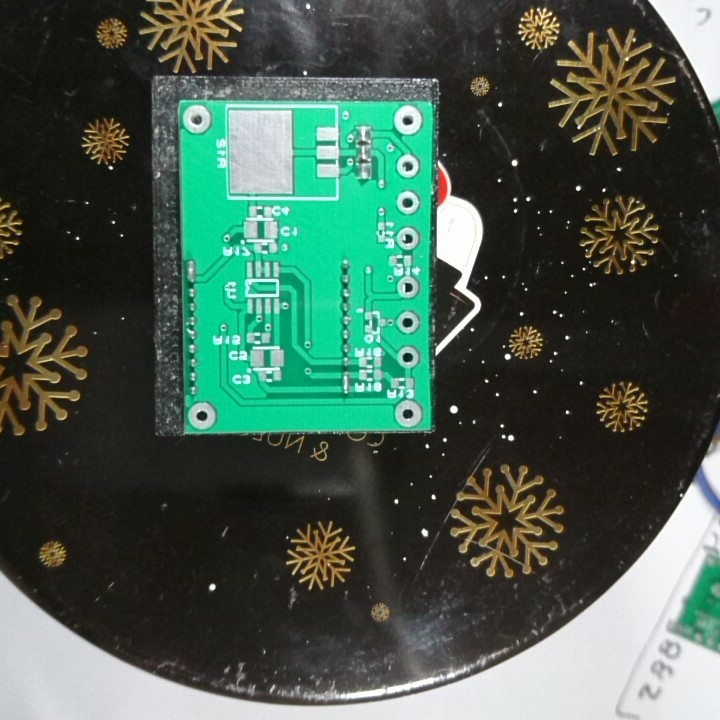F: (391, 102, 425, 138), (180, 103, 214, 134), (186, 399, 220, 429), (393, 396, 424, 427), (393, 188, 422, 217), (394, 273, 421, 302), (394, 153, 422, 180), (394, 226, 422, 252), (397, 344, 422, 372), (395, 309, 420, 335)
P: (183, 258, 201, 286), (339, 371, 352, 398)
